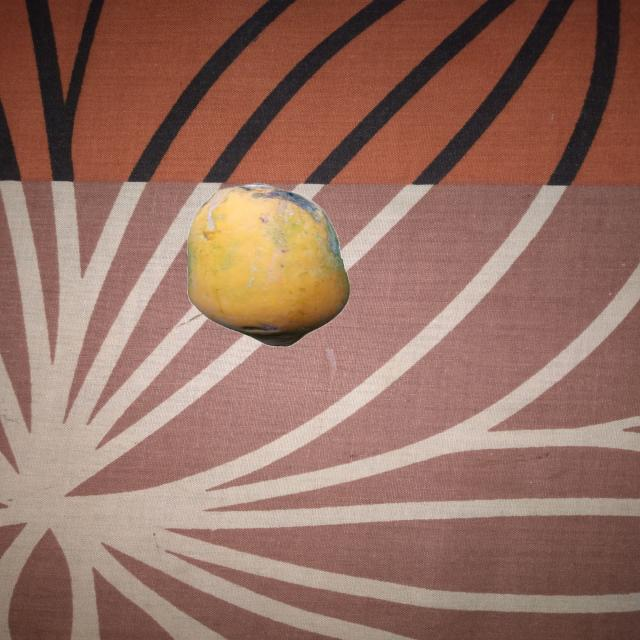Pepaya rippen: (178, 171, 354, 354)
